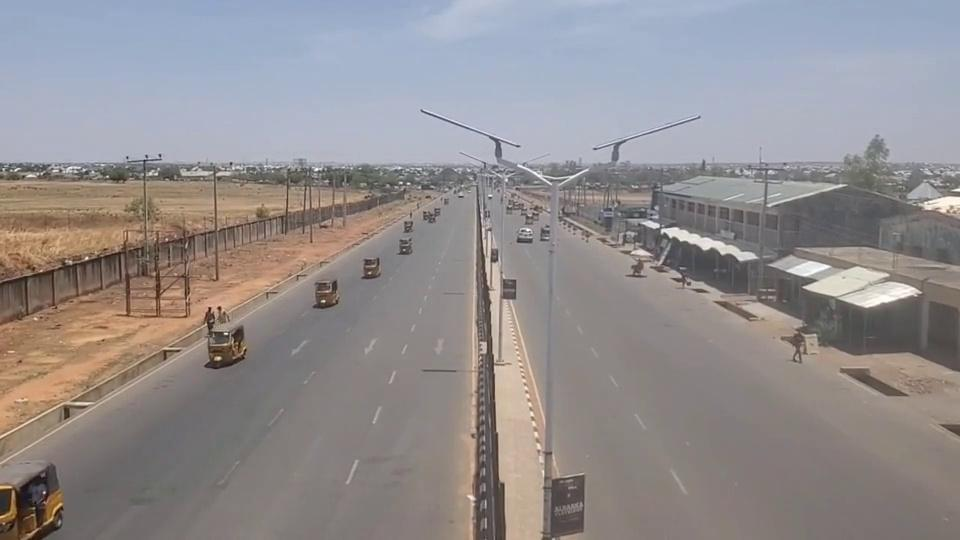keke: (0, 459, 64, 539), (206, 321, 247, 366), (313, 278, 339, 307)
